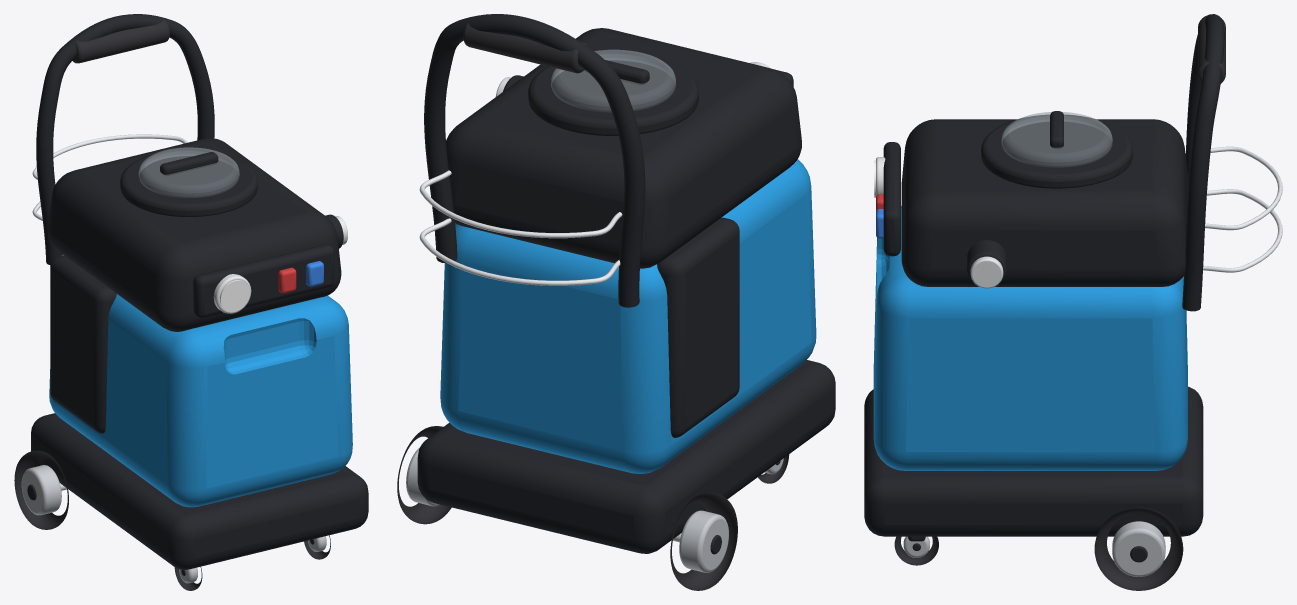
File: mytee.glb
3 views of the same model, side by side, from view 1: azimuth 30°, elevation 25°; view 2: azimuth 150°, elevation 25°; view 3: azimuth 270°, elevation 25° (orthographic). The views are drawn at different scales.
Visible parts, largest first — view 1: negro, azul, goma, domo, rin, acero, caratula; view 2: negro, azul, goma, domo, acero, rin; view 3: negro, azul, domo, goma, acero, rin.
Part boxes in pixels (x1,y1,x2,y2): negro: (27,14,368,575); azul: (49,254,352,507); goma: (14,20,330,590); domo: (138,147,239,197); rin: (21,465,326,583); acero: (32,134,347,490); caratula: (220,280,249,311); negro: (417,14,835,554); azul: (440,159,816,473); goma: (397,23,789,590); domo: (551,49,675,112); acero: (419,62,770,542); rin: (406,447,783,572); negro: (864,14,1224,562); azul: (873,206,1187,470); domo: (1001,112,1112,167); goma: (894,15,1225,590); acero: (876,146,1282,288); rin: (903,521,1165,576).
Size of the model in its own units: 0.53 by 0.9517 by 0.7161.
